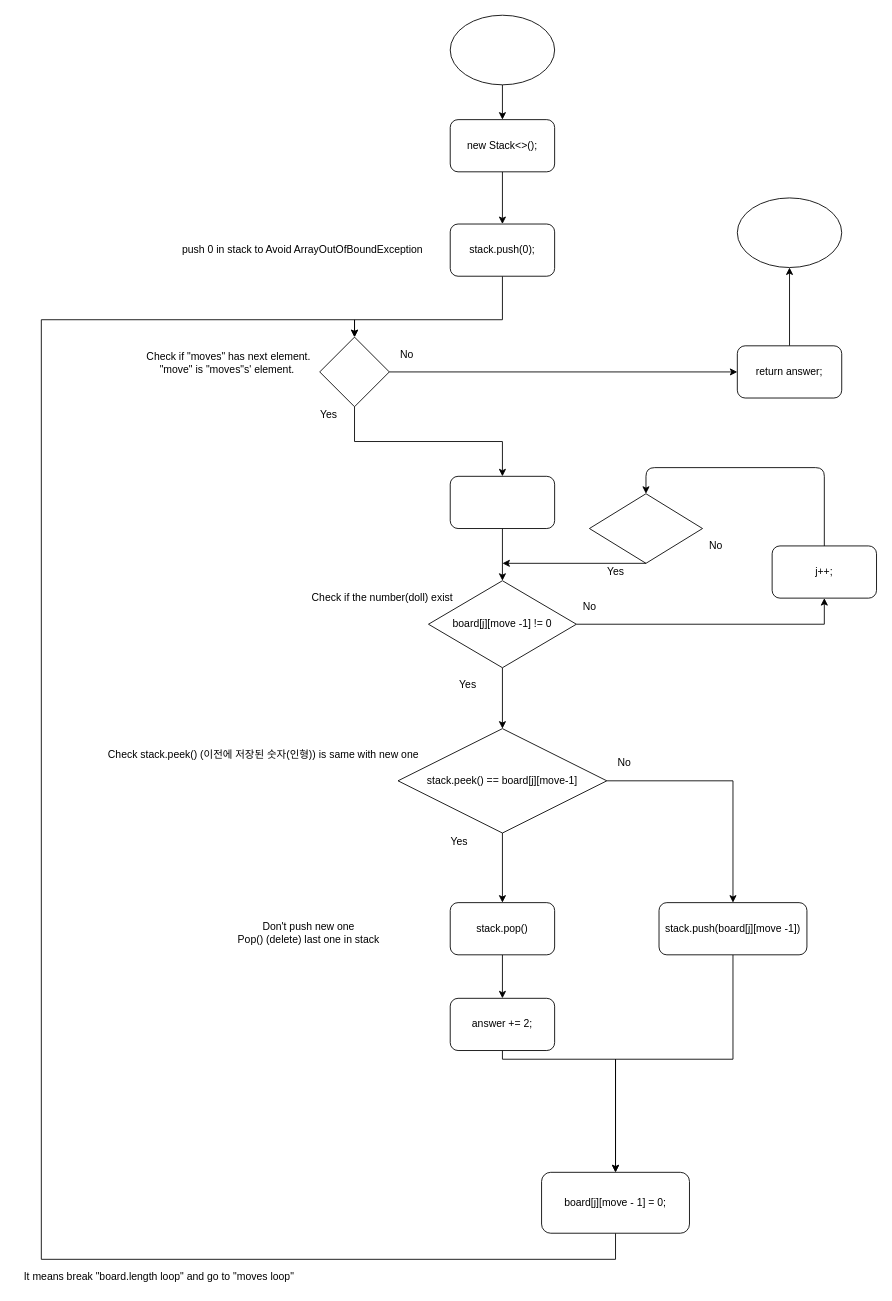
Some shapes in this 892 by 1301 pixel diagram are drawn without their labels. Here are the shapes that lost their labels. From the top down, the centre of each, then its label:
pixel 502 49: start
pixel 789 232: End
pixel 354 371: move: moves
pixel 502 502: j = 0;
pixel 646 528: j < board.length
